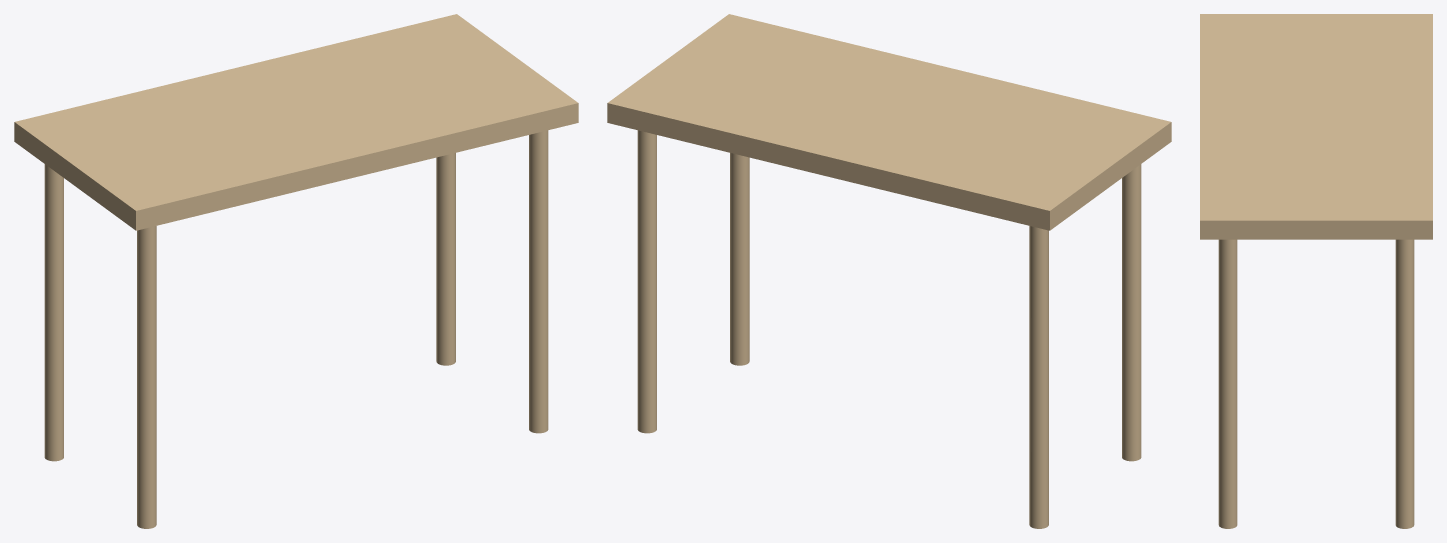
File: ikea-micke-30431047-g2-proxy.glb
The picture shows the model from 3 angles, left to right: view 1: azimuth 30°, elevation 25°; view 2: azimuth 150°, elevation 25°; view 3: azimuth 270°, elevation 25°; orthographic projection. The views are drawn at different scales.
Parts seen in each view (by area): view 1: proxy_body, leg (×4); view 2: proxy_body, leg (×4); view 3: proxy_body, leg (×2).
Part boxes in pixels (x1,y1,x2,y2): proxy_body: [14, 14, 578, 230]; leg (×4): [44, 130, 548, 528]; proxy_body: [607, 14, 1171, 230]; leg (×4): [637, 130, 1141, 528]; proxy_body: [1200, 14, 1432, 239]; leg (×2): [1218, 239, 1414, 528].
Size of the model in its own units: 1.05 by 0.75 by 0.5.
